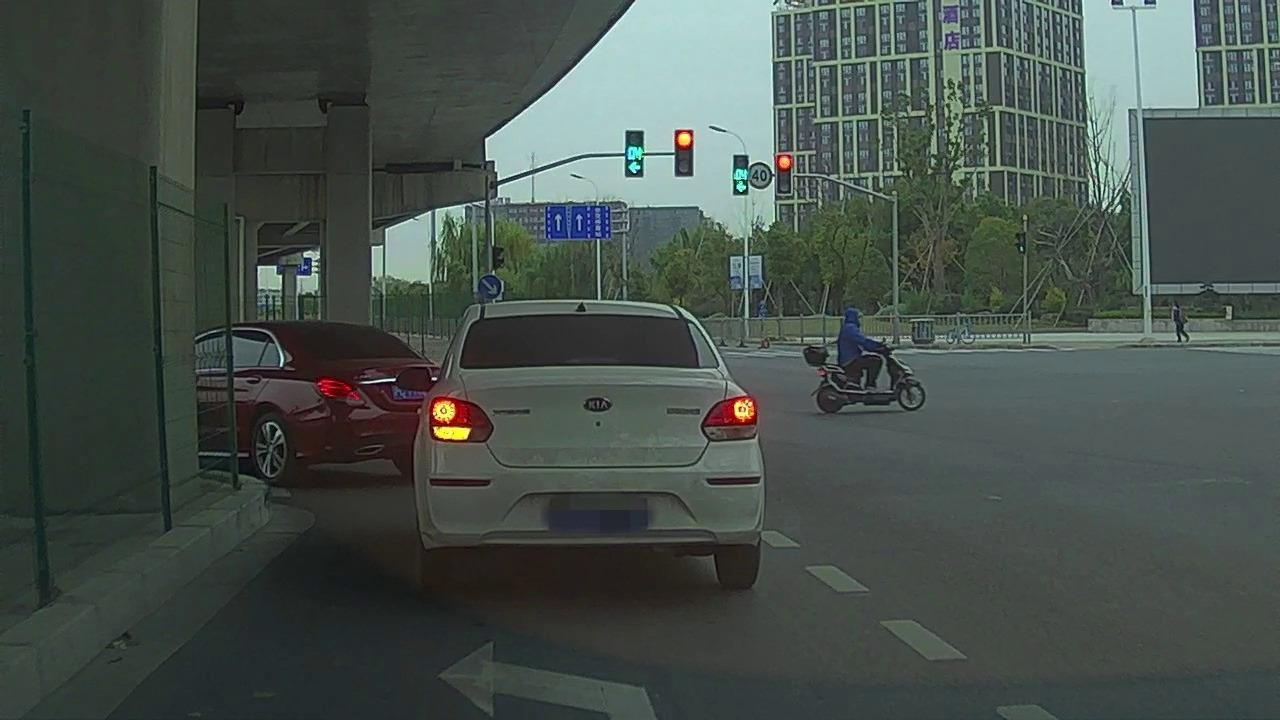traffic_light: (626, 129, 643, 176), (676, 130, 692, 175), (776, 155, 792, 192), (736, 155, 749, 195)
